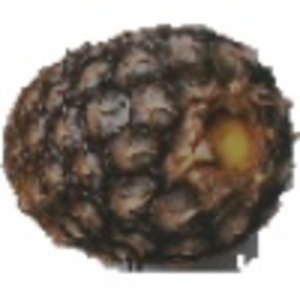abacaxi: (5, 18, 289, 261)
